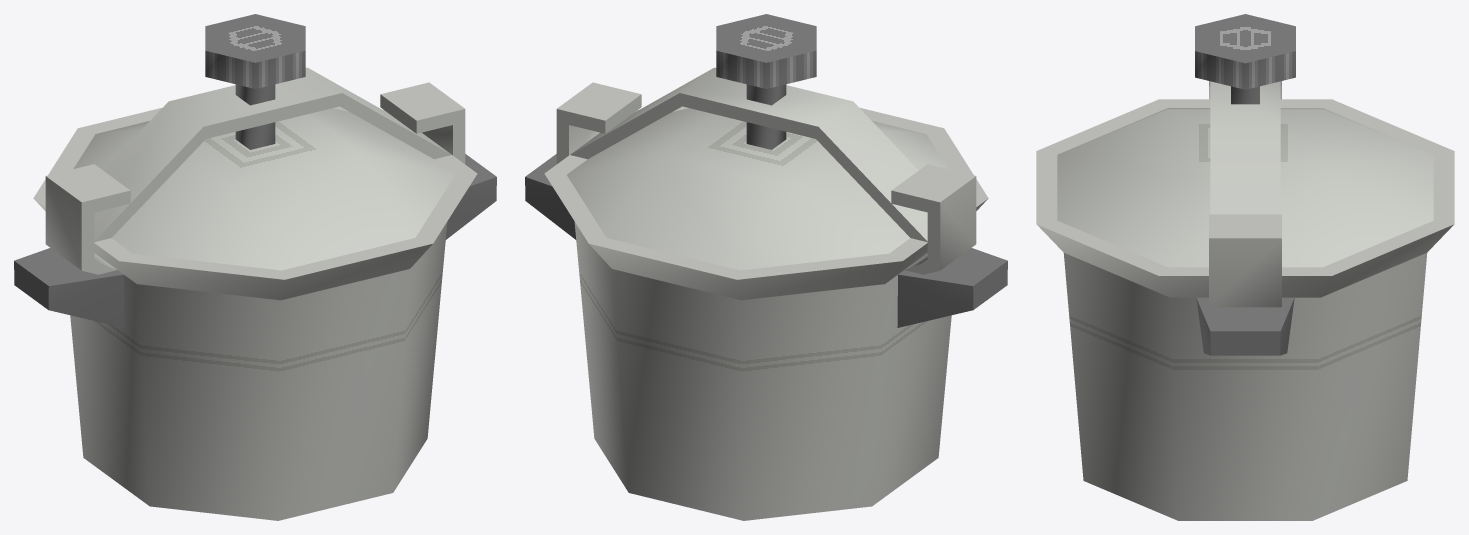
File: 0154_Pressure_Cooker.glb
3 views of the same model, side by side, from view 1: azimuth 30°, elevation 25°; view 2: azimuth 150°, elevation 25°; view 3: azimuth 270°, elevation 25° (orthographic).
Visible parts, largest first — view 1: part_0; view 2: part_0; view 3: part_0.
Part boxes in pixels (x1=…): part_0: x1=14, y1=14, x2=496, y2=520; part_0: x1=525, y1=14, x2=1007, y2=520; part_0: x1=1036, y1=14, x2=1454, y2=520.
Bounding box in the file's own units: 0.447 × 0.3906 × 0.3577.
Materials: 1 (1 with a texture image).
